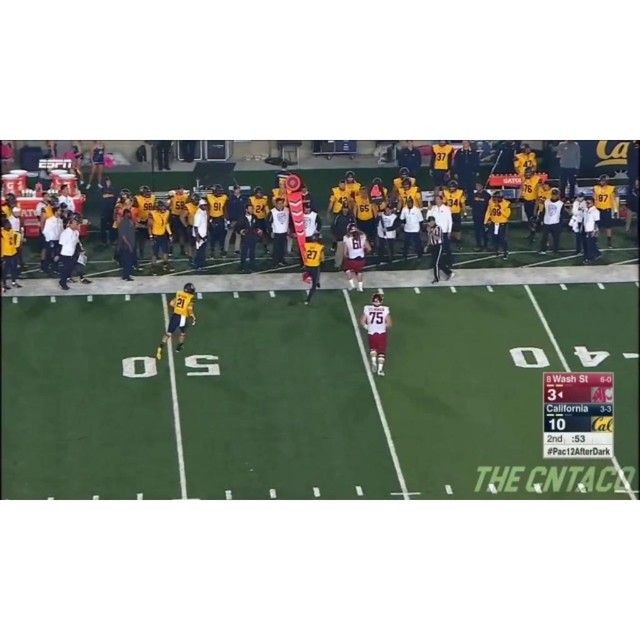american-football-player: (359, 292, 393, 378), (159, 282, 198, 356)
referee: (424, 215, 451, 282)
